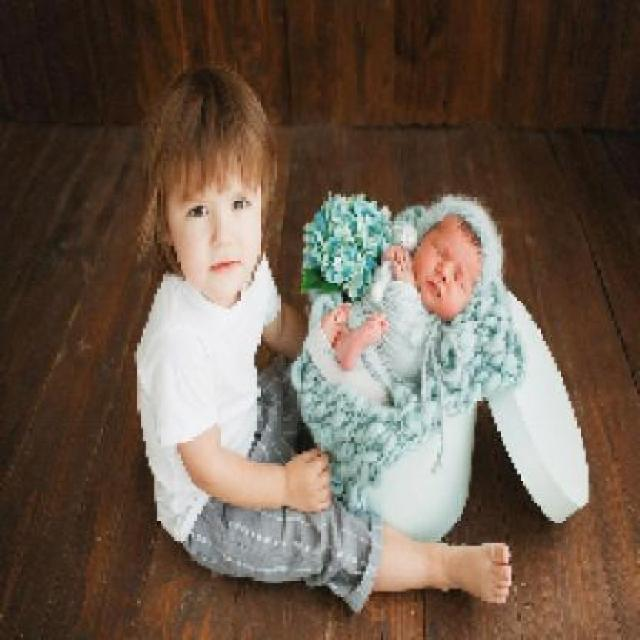child: (128, 69, 512, 612), (287, 192, 504, 408)
